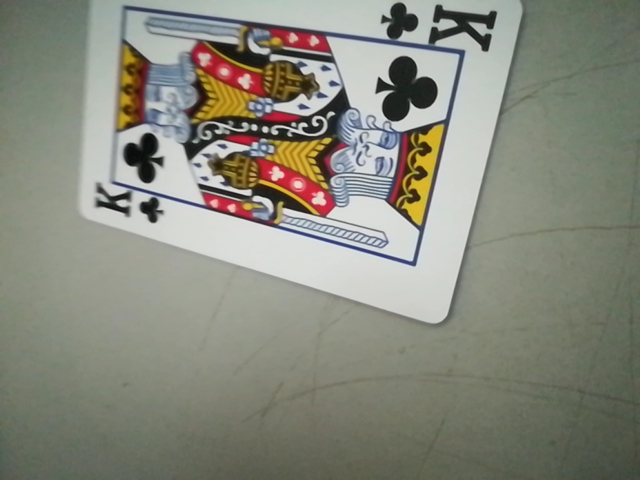mh k: (377, 0, 502, 53), (86, 178, 167, 231)
